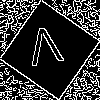V: (25, 25, 66, 76)
